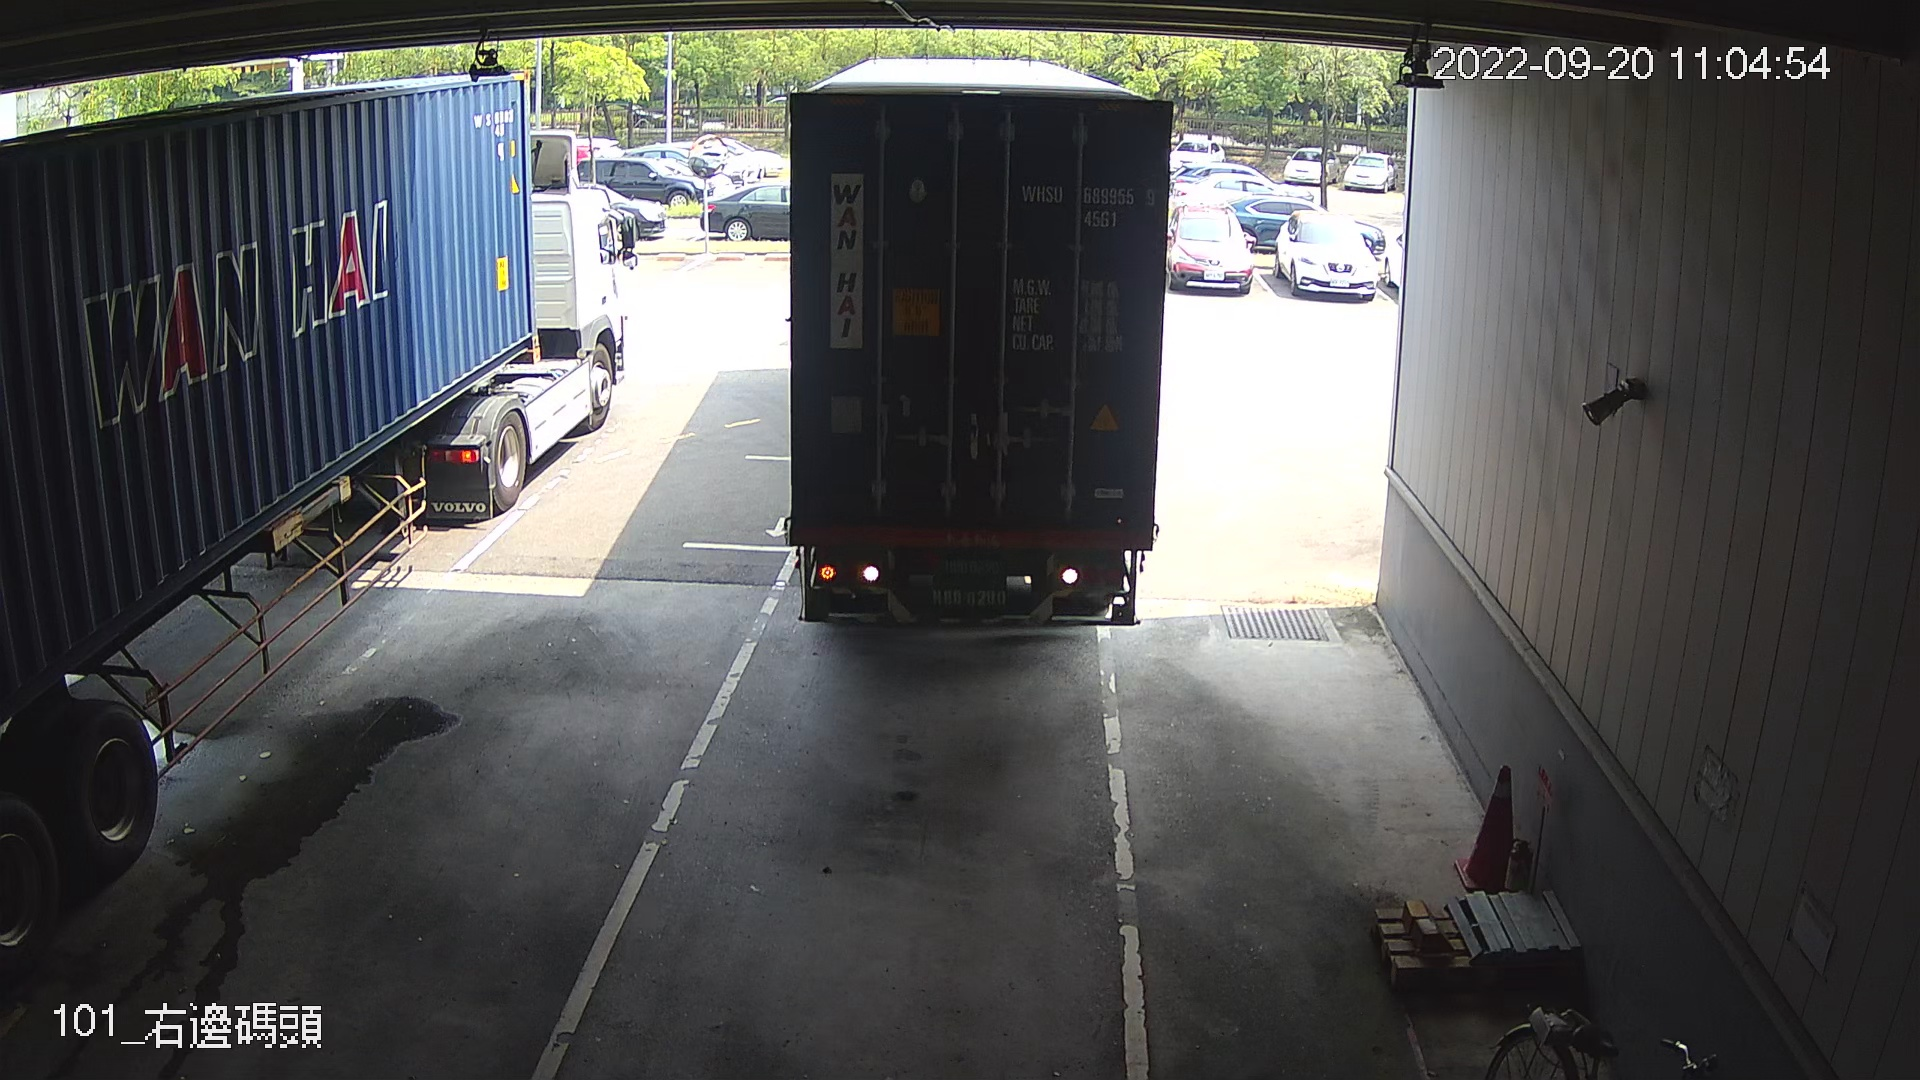container: (1011, 174, 1162, 239)
